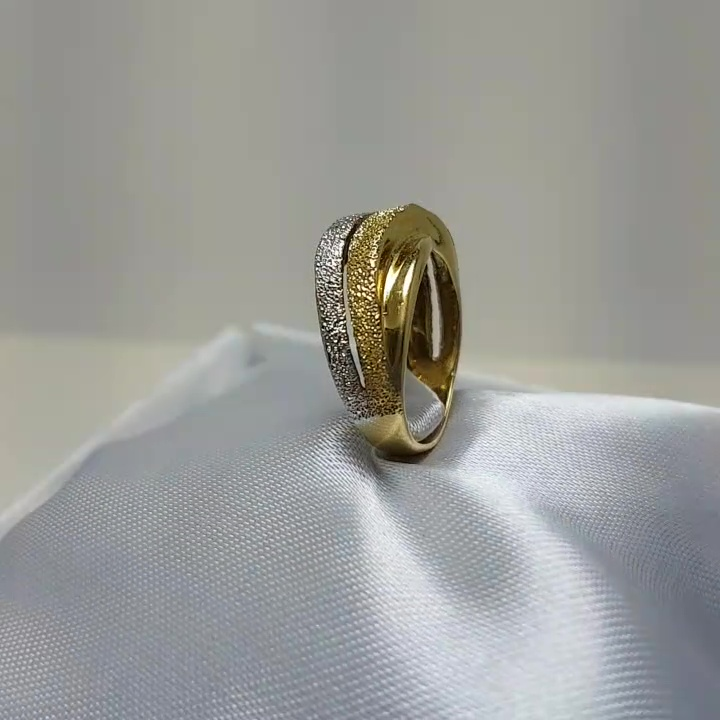Ring 5: (283, 192, 475, 478)
